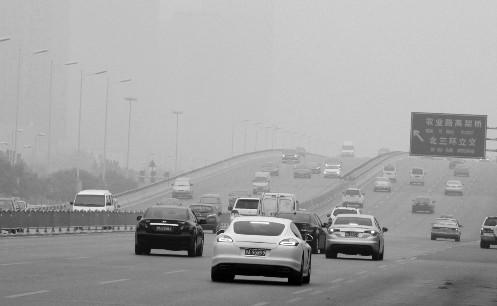car: (210, 216, 314, 286), (135, 205, 207, 257), (324, 213, 388, 261), (275, 211, 327, 254), (70, 189, 116, 230), (261, 192, 299, 234), (227, 197, 265, 229), (187, 204, 222, 234), (326, 205, 362, 232), (1, 197, 24, 234), (430, 218, 463, 242), (479, 216, 497, 249), (199, 193, 223, 217), (156, 197, 182, 219), (436, 215, 464, 235), (228, 189, 252, 212), (251, 171, 274, 195), (171, 177, 193, 199), (411, 195, 436, 214), (342, 188, 365, 208), (444, 179, 465, 197), (408, 167, 427, 186), (293, 162, 313, 179), (323, 161, 342, 178), (374, 176, 392, 193), (261, 161, 280, 177), (280, 148, 300, 163), (382, 165, 397, 182), (341, 141, 356, 158), (449, 155, 467, 169), (454, 164, 471, 177), (293, 147, 306, 159)
